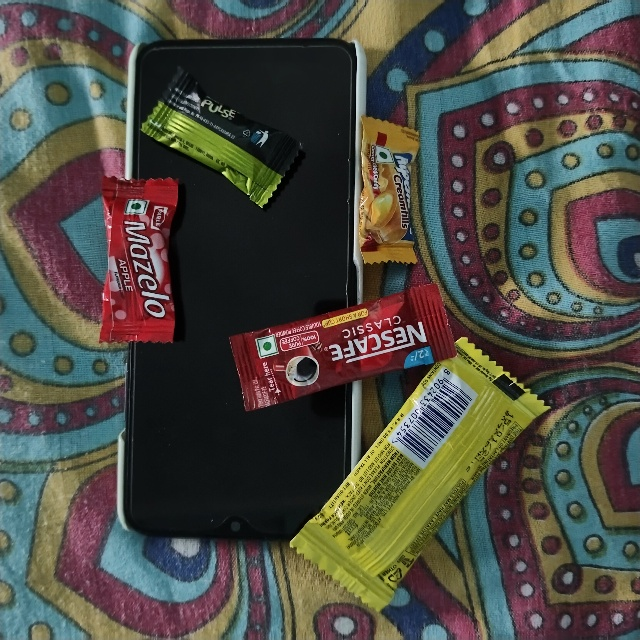Alpenlibe Creamfills: (355, 115, 421, 263)
Mazelo: (98, 174, 175, 346)
Nescafe Coffee: (223, 334, 442, 421)
Orbit: (462, 330, 580, 608)
Pulse: (135, 129, 212, 283)
